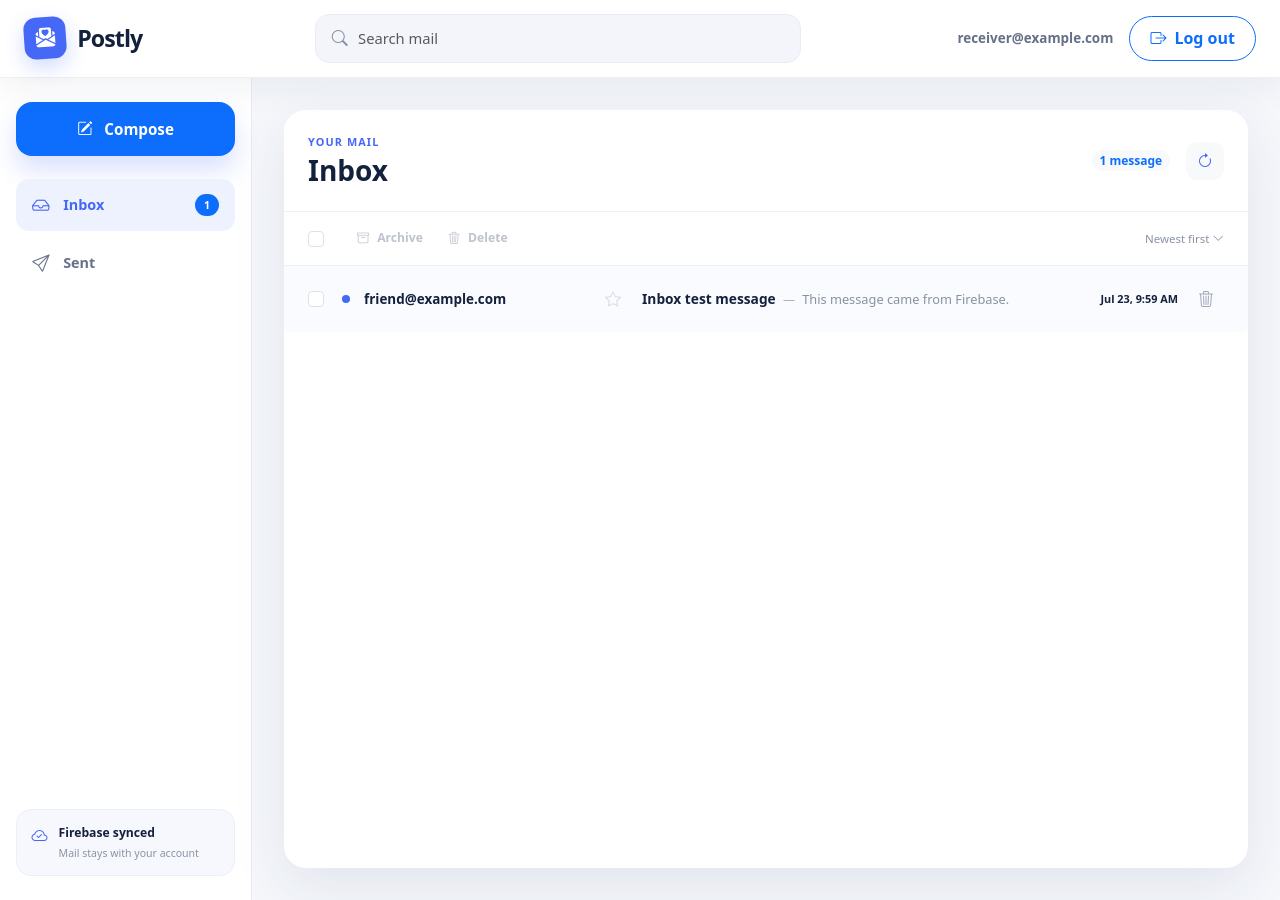
it: Inbox component › restores unread state and alerts the user when saving read status fails
Click the button named "Open message: Inbox test message" at point(766, 299), box [284,266,1248,332]
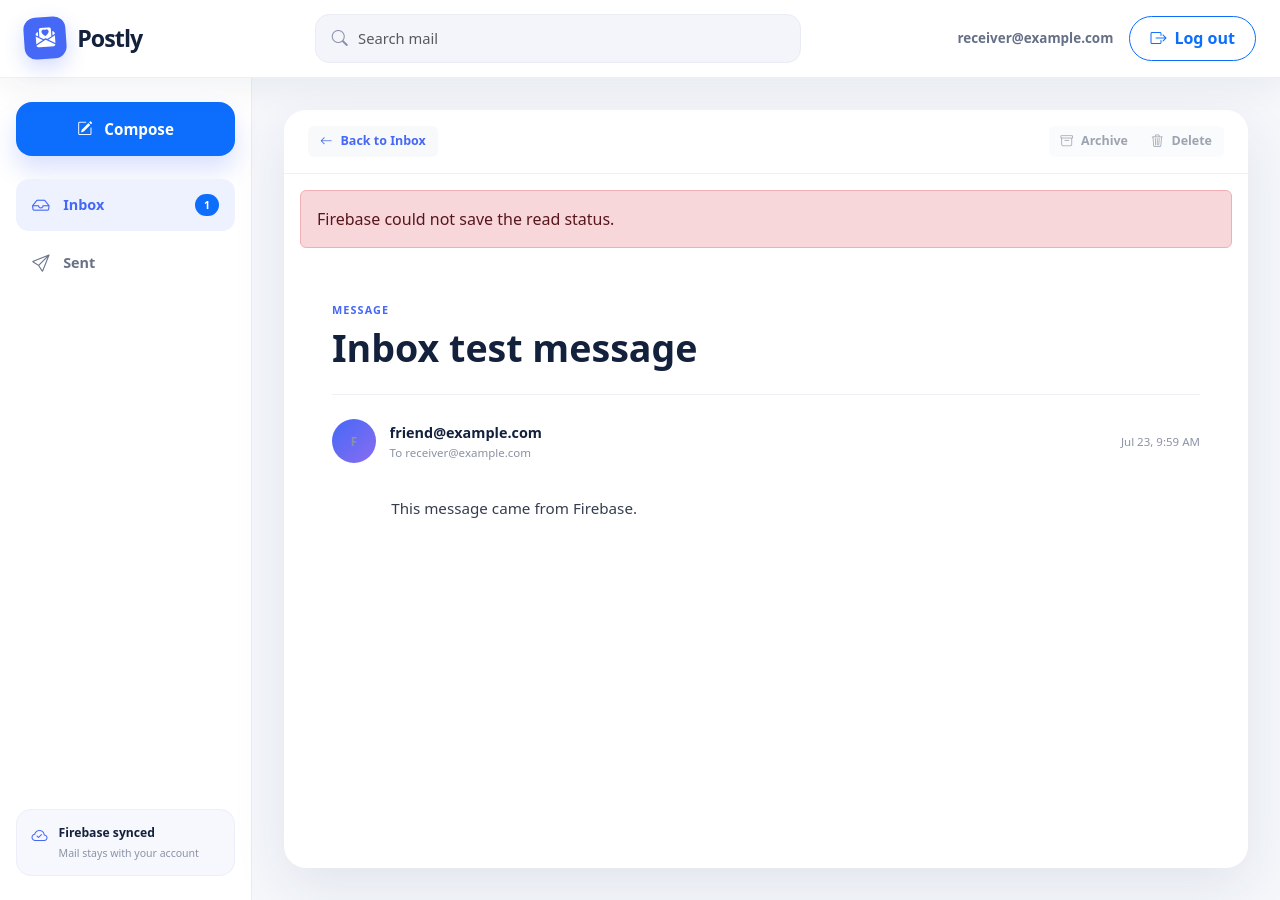
Expected: the text with test id "inbox-unread-count" reads "1", [204,198,210,212]
Expected: the text "Firebase could not save the read status." is shown, [300,190,1232,248]
Click the button "Back to Inbox" at point(373, 141), box [308,126,438,157]
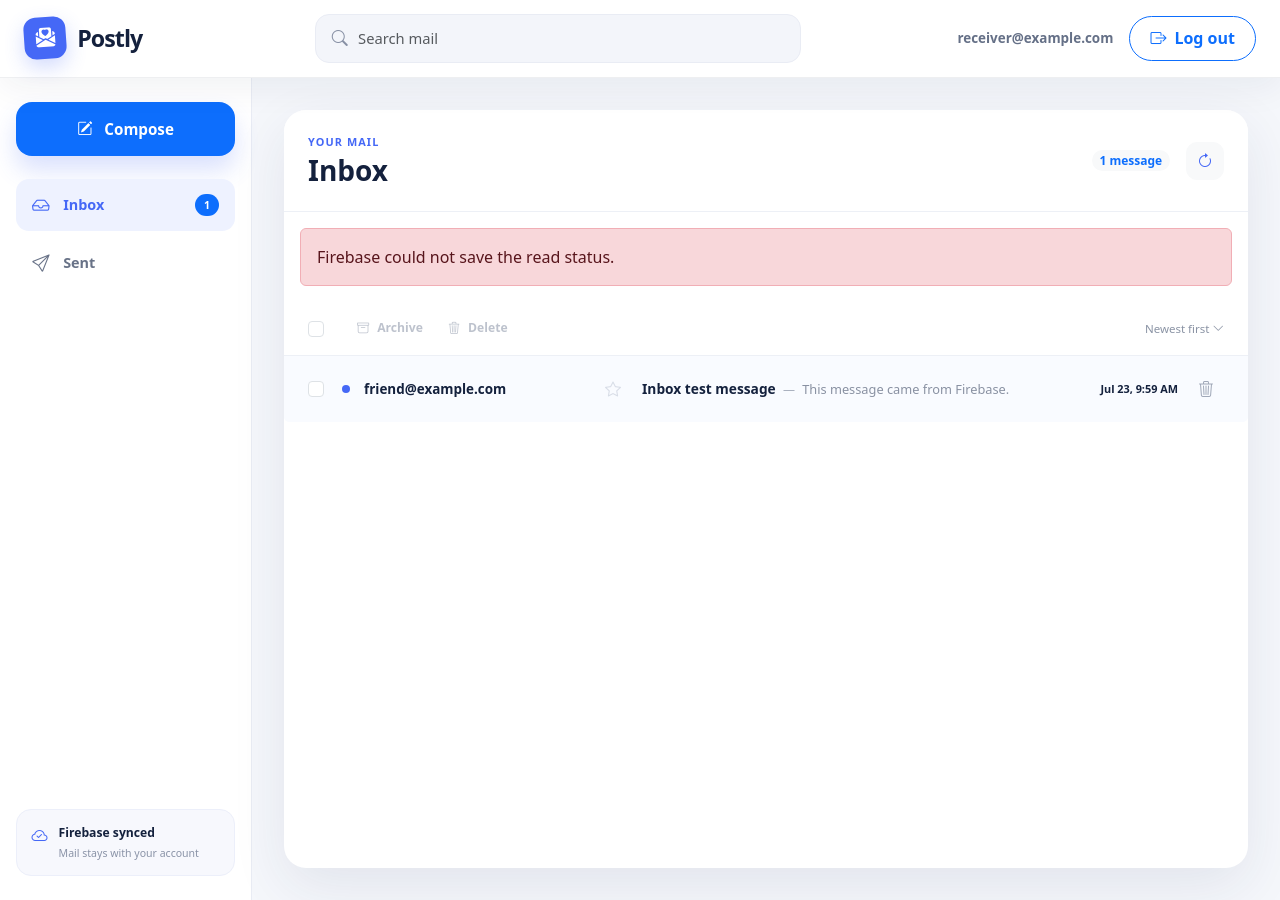
Expected: the element named "Unread message" is shown, [342,385,350,393]
